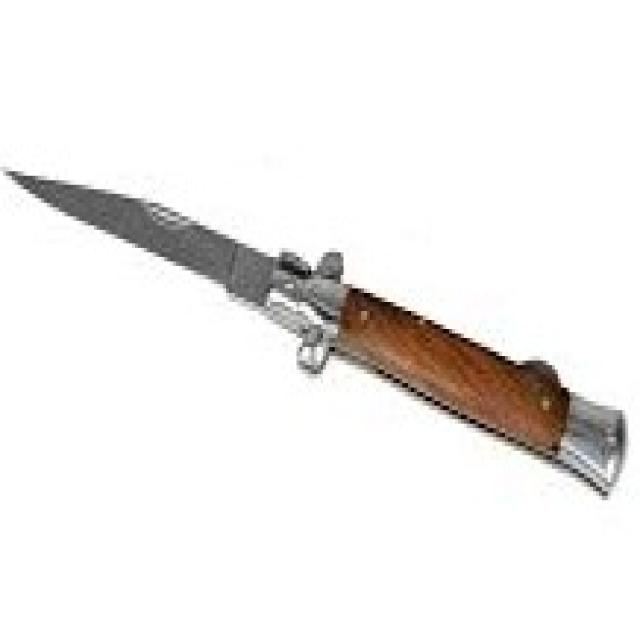knife: (4, 158, 632, 508)
